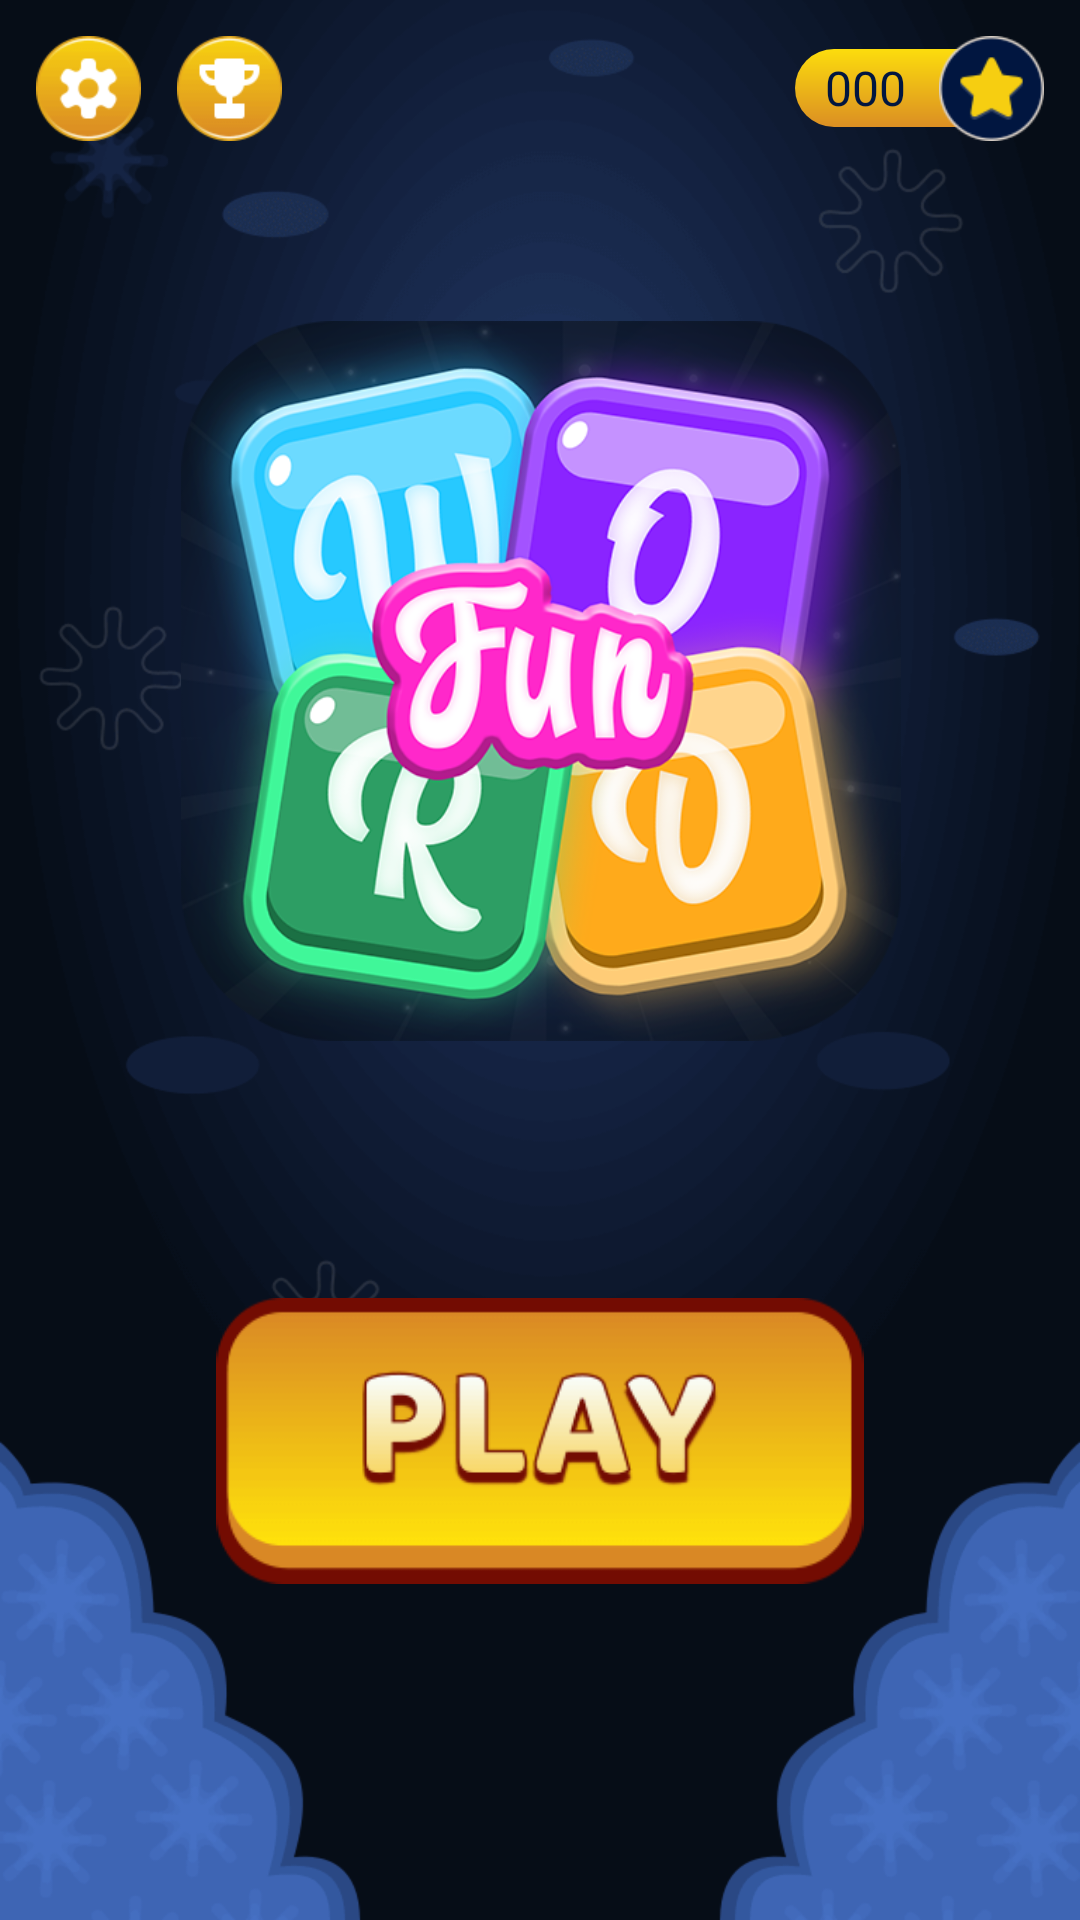

Where to tap for icons on this 1080*1920 app screen, as (x,y):
achievement: (229,88)
setting: (88,88)
star: (991,88)
